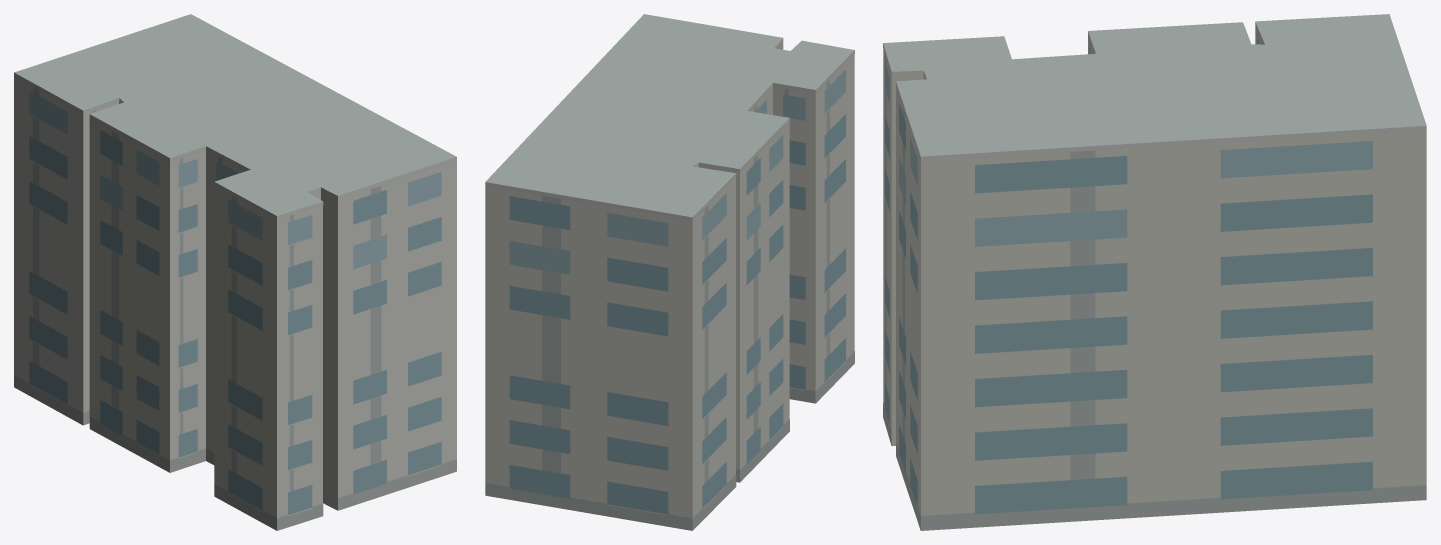
File: survey-upis-32718705.glb
The picture shows the model from 3 angles, left to right: view 1: azimuth 30°, elevation 25°; view 2: azimuth 150°, elevation 25°; view 3: azimuth 270°, elevation 25°; orthographic projection. The views are drawn at different scales.
Parts seen in each view (by area): view 1: survey-upis-32718705.tmp; view 2: survey-upis-32718705.tmp; view 3: survey-upis-32718705.tmp.
Part boxes in pixels (box(x1,y1,x2,y2)): survey-upis-32718705.tmp: box(14, 14, 456, 530); survey-upis-32718705.tmp: box(485, 14, 854, 530); survey-upis-32718705.tmp: box(883, 14, 1426, 530).
Size of the model in its own units: 16.02 by 19.6 by 25.81.
